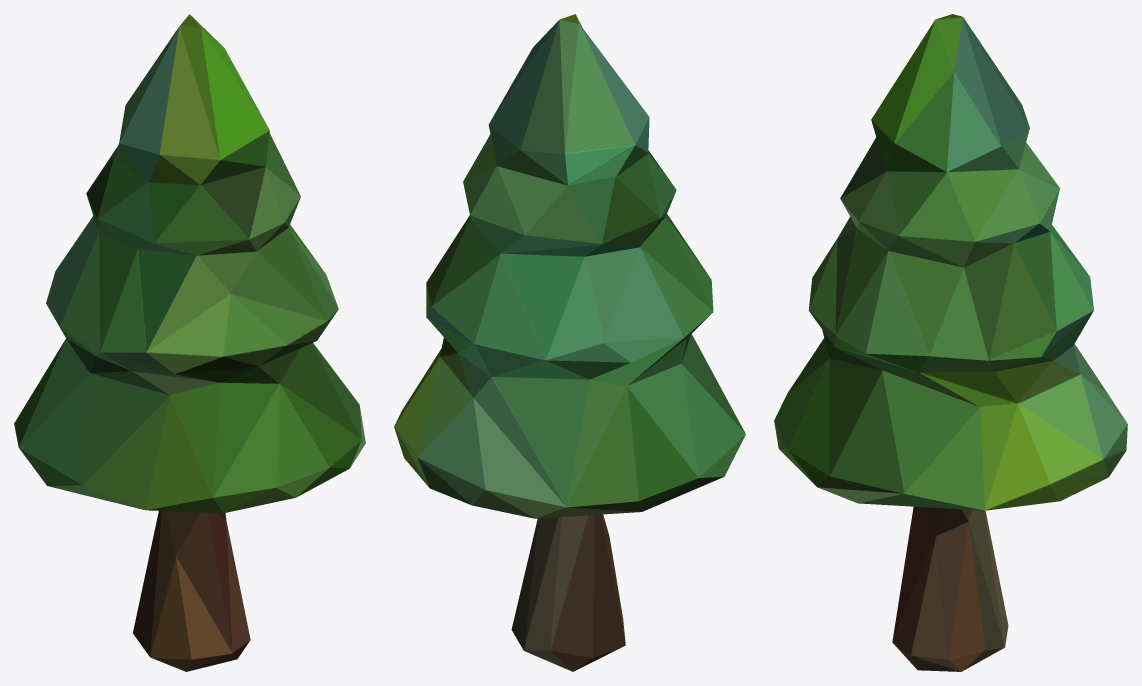
Rendered from tree2.glb.
The picture shows the model from 3 angles, left to right: view 1: azimuth 30°, elevation 25°; view 2: azimuth 150°, elevation 25°; view 3: azimuth 270°, elevation 25°; orthographic projection.
Size of the model in its own units: 0.5827 by 1.18 by 0.5871.
Materials: 1 (1 with a texture image).
